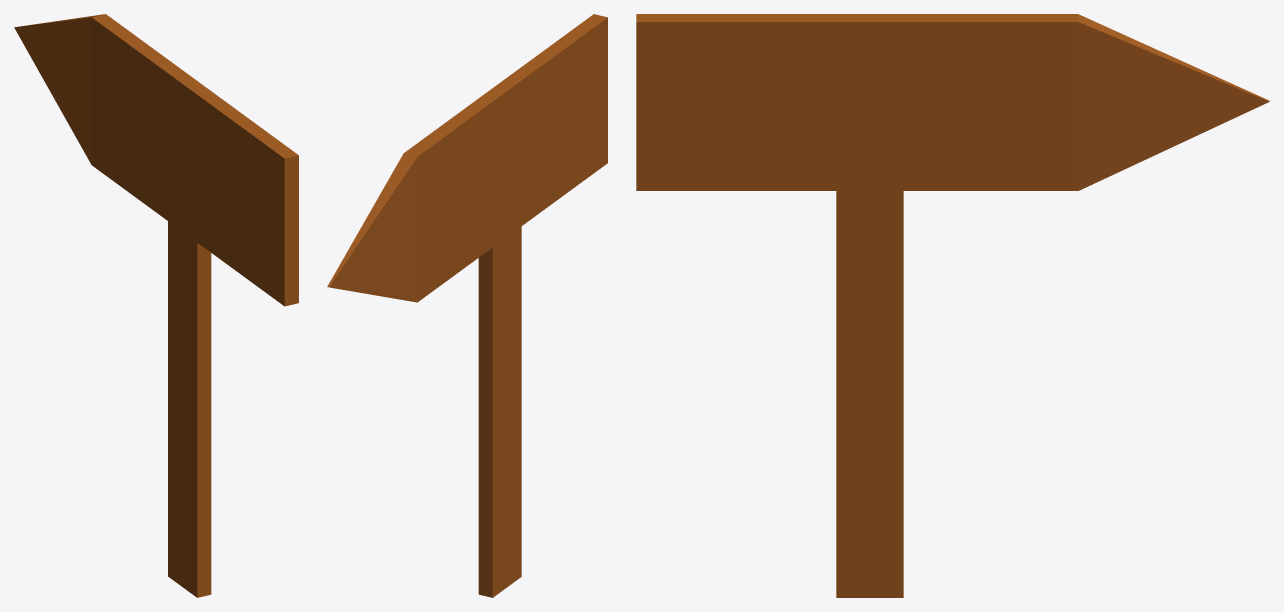
File: Mount Chinook Sign.glb
The picture shows the model from 3 angles, left to right: view 1: azimuth 30°, elevation 25°; view 2: azimuth 150°, elevation 25°; view 3: azimuth 270°, elevation 25°; orthographic projection. The views are drawn at different scales.
Parts seen in each view (by area): view 1: Cube, Cube.001; view 2: Cube, Cube.001; view 3: Cube, Cube.001.
Boxes of the visible parts, box(x1,y1,x2,y2) form: Cube: box(14, 14, 298, 306); Cube.001: box(168, 215, 211, 597); Cube: box(327, 14, 607, 302); Cube.001: box(478, 220, 521, 597); Cube: box(636, 14, 1269, 190); Cube.001: box(836, 184, 903, 597).
Size of the model in its own units: 0.0997 by 3.4 by 3.39.
Materials: 2 (2 with a texture image).
